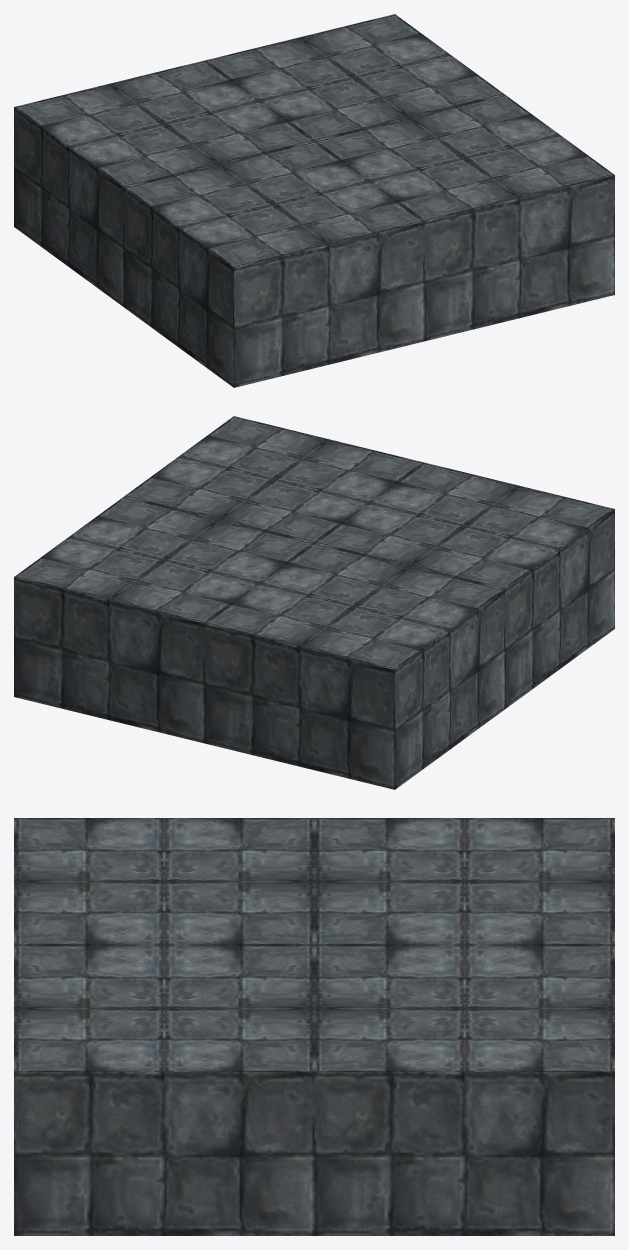
File: bottom-floor-02-2x2.fbx
3 renders of one model, top to bottom at view 1: azimuth 30°, elevation 25°; view 2: azimuth 150°, elevation 25°; view 3: azimuth 270°, elevation 25°, orthographic. The views are drawn at different scales.
Visible parts, largest first — view 1: Plane.036; view 2: Plane.036; view 3: Plane.036.
Part boxes in pixels (bbox=[...]): Plane.036: bbox=[14, 14, 614, 387]; Plane.036: bbox=[14, 416, 614, 789]; Plane.036: bbox=[14, 818, 614, 1235].
Size of the model in its own units: 2 by 0.6014 by 2.
